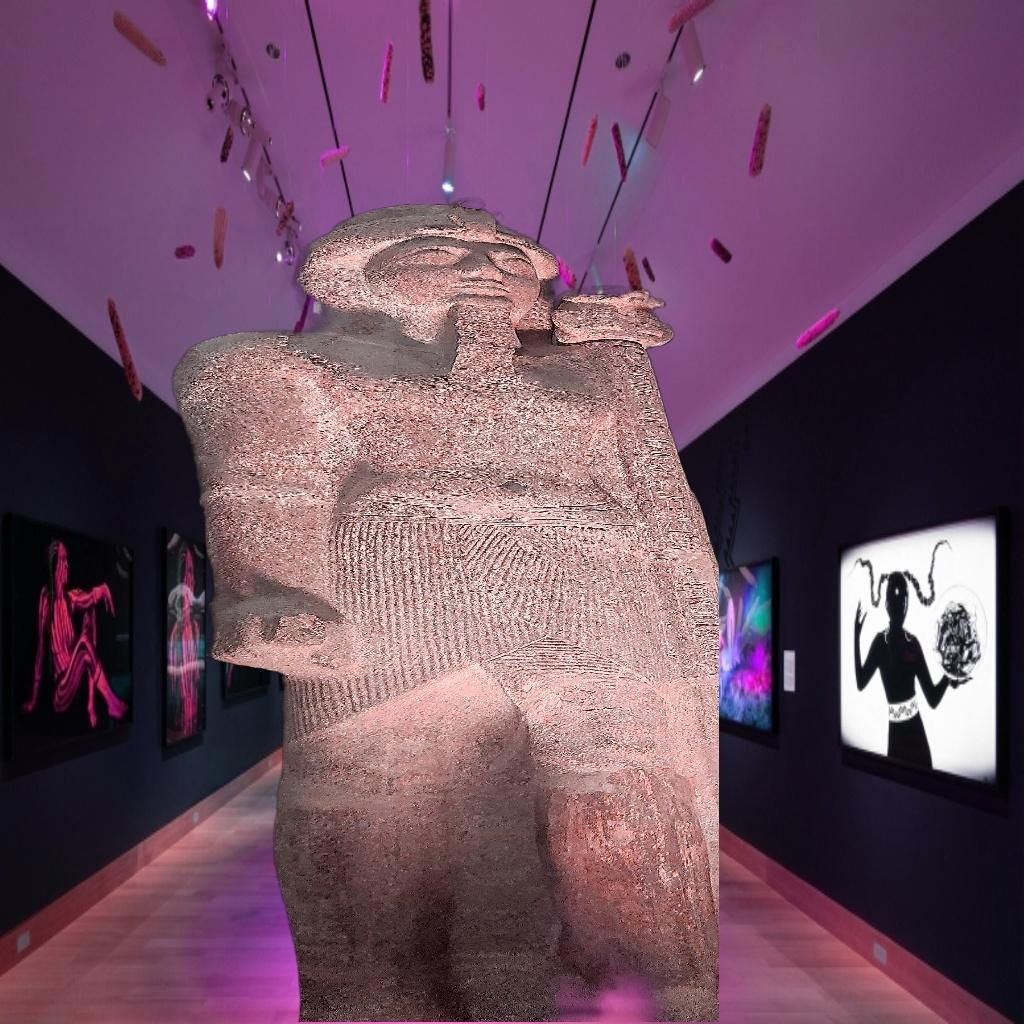Statue of Ramesses III as standard Bearer: (168, 195, 719, 1022)
